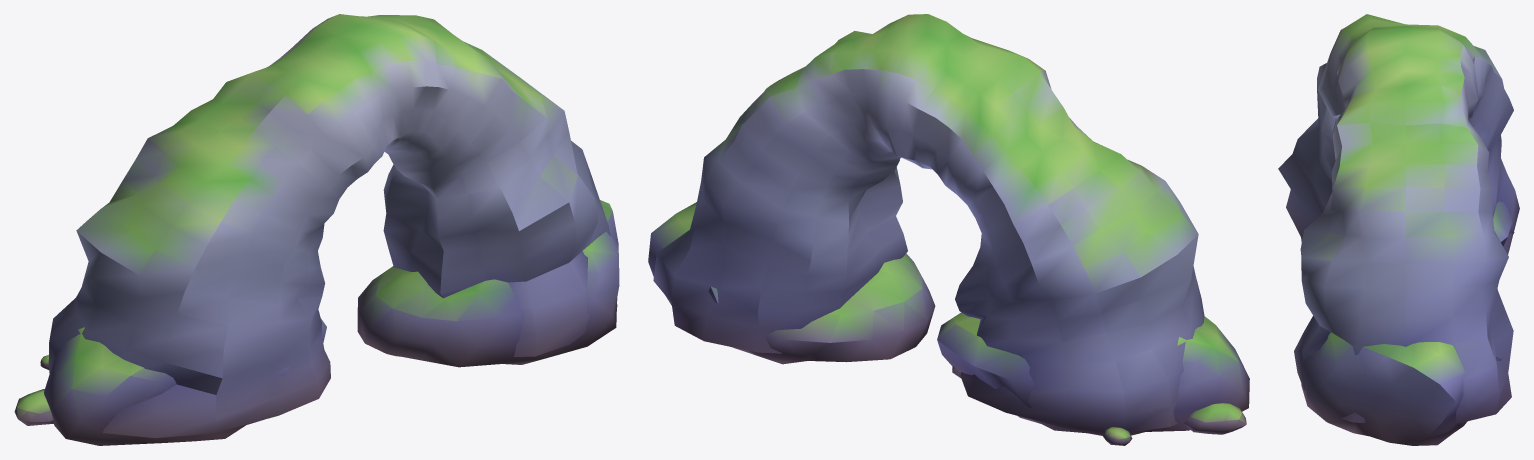
File: verdant_arch_natural_a.glb
3 renders of one model, left to right at view 1: azimuth 30°, elevation 25°; view 2: azimuth 150°, elevation 25°; view 3: azimuth 270°, elevation 25°, orthographic. The views are drawn at different scales.
Parts seen in each view (by area): view 1: verdant_arch_natural_a; view 2: verdant_arch_natural_a; view 3: verdant_arch_natural_a.
Part boxes in pixels (bbox=[...]): verdant_arch_natural_a: bbox=[14, 14, 619, 445]; verdant_arch_natural_a: bbox=[648, 14, 1249, 445]; verdant_arch_natural_a: bbox=[1278, 14, 1519, 445].
Bounding box in the file's own units: 18.74 × 10.01 × 7.11.
